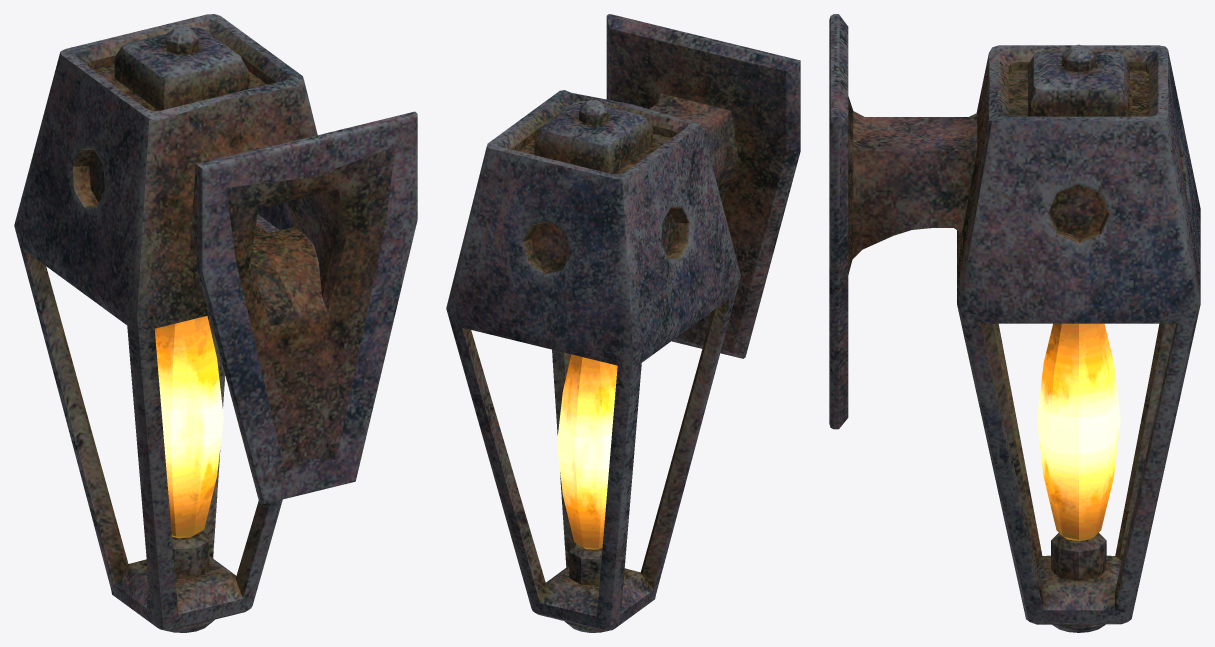
The model's file is Wall_Lantern.fbx.
3 views of the same model, side by side, from view 1: azimuth 30°, elevation 25°; view 2: azimuth 150°, elevation 25°; view 3: azimuth 270°, elevation 25° (orthographic). The views are drawn at different scales.
Visible parts, largest first — view 1: Wall_Lantern_prop; view 2: Wall_Lantern_prop; view 3: Wall_Lantern_prop.
Boxes of the visible parts, left/top/right/bottom form: Wall_Lantern_prop: left=14, top=14, right=417, bottom=632; Wall_Lantern_prop: left=446, top=14, right=800, bottom=632; Wall_Lantern_prop: left=829, top=14, right=1200, bottom=632.
Bounding box in the file's own units: 6.36 × 16.5 × 9.69.
1 material, 1 textured.
